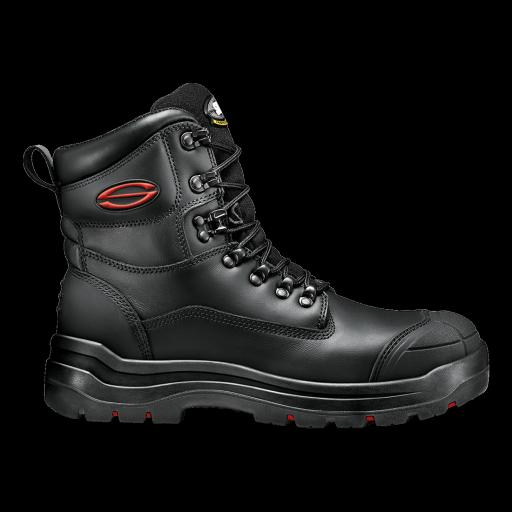safety_boots: (15, 96, 494, 439)
